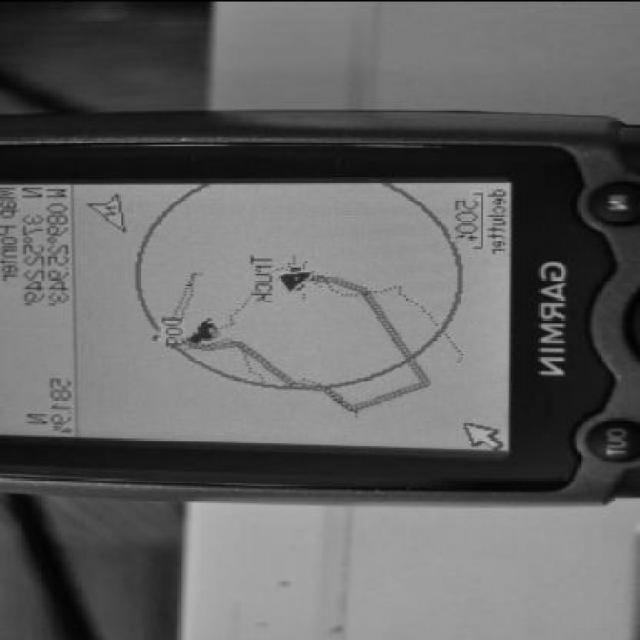fake: (0, 106, 638, 505)
